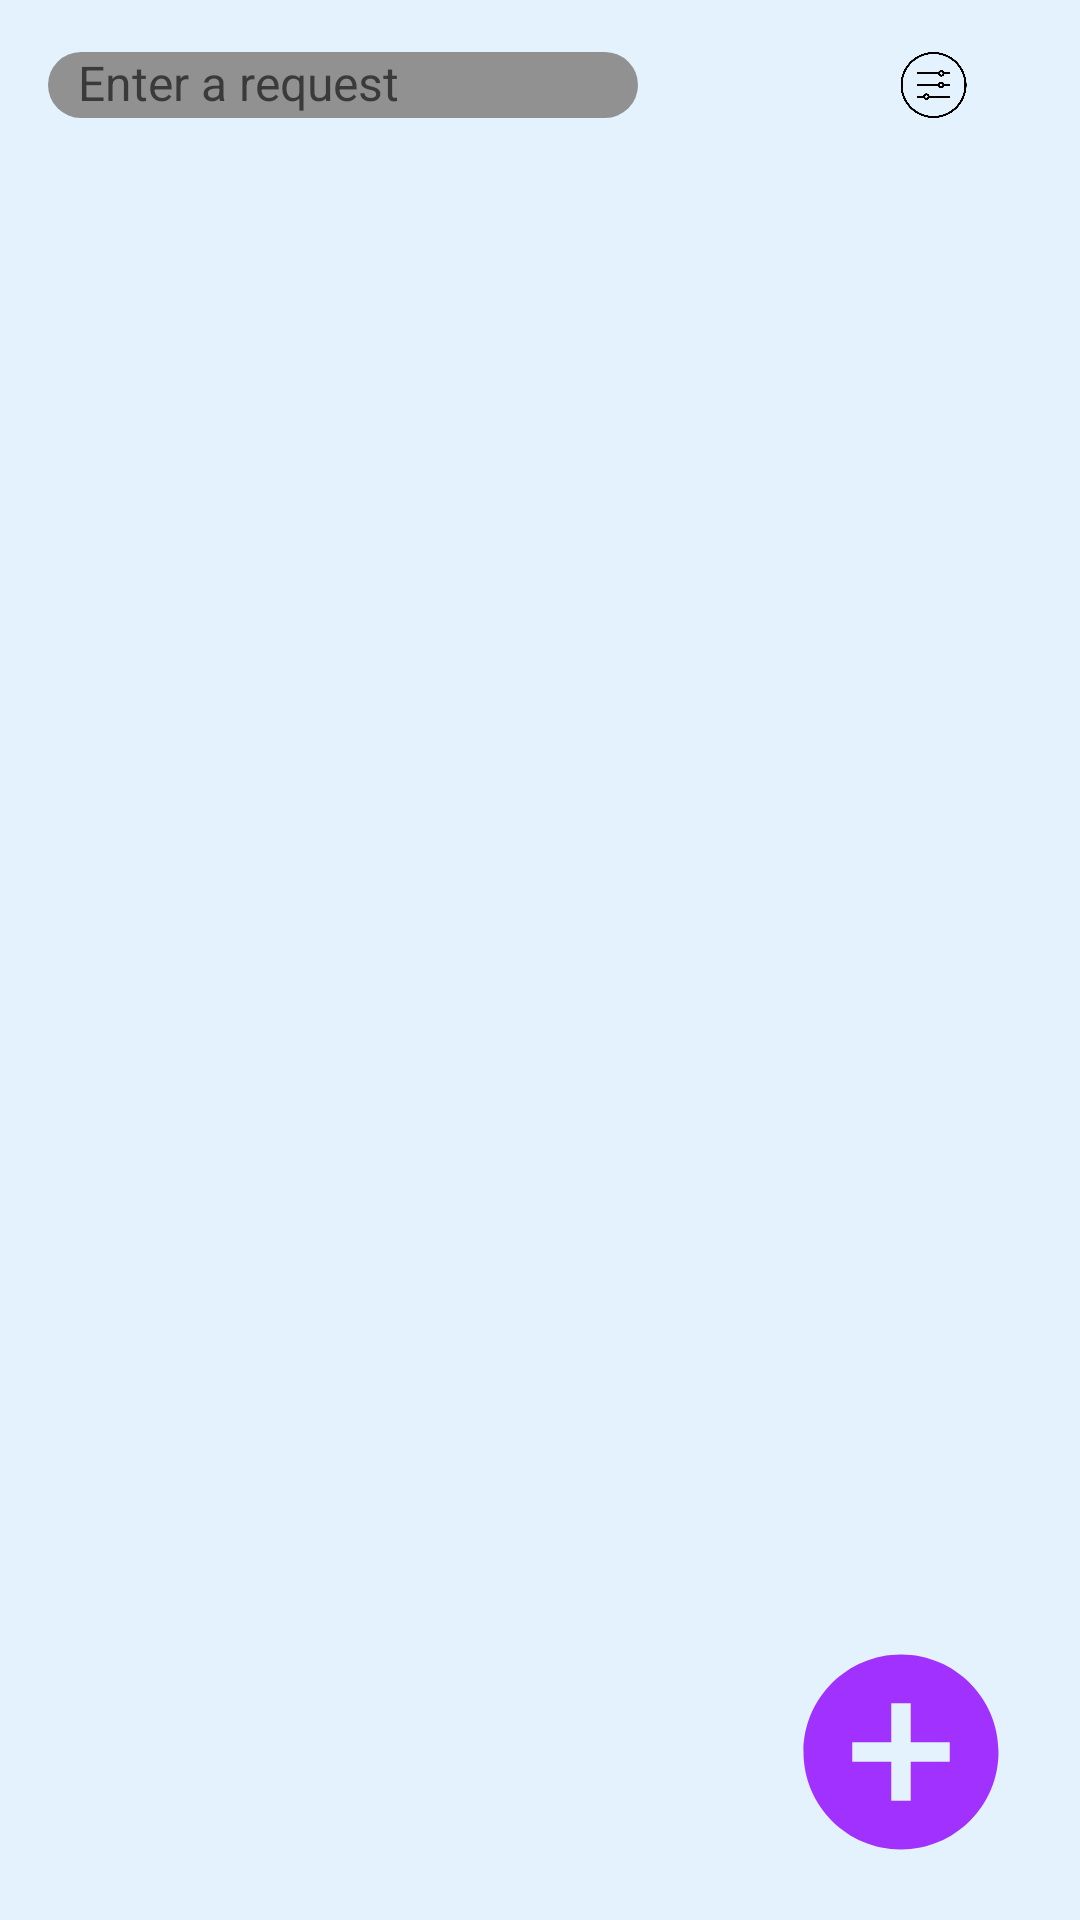

Where to tap for icons on this 1080px x 1920px app screen, as [x,y]:
add cards: [901,1752]
filter: [934,85]
